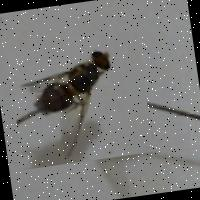Oriental-fruit-fly: (6, 31, 154, 169)
